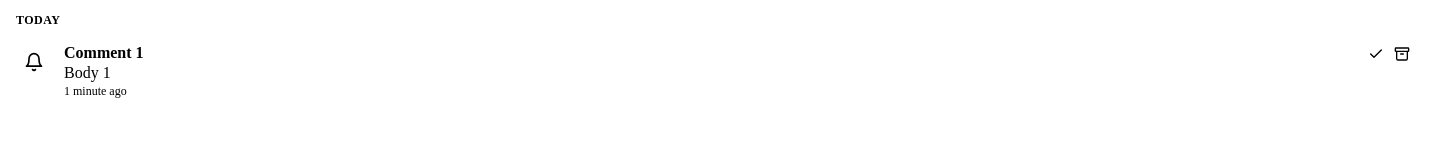
it: NotificationItem › toggles read state and archives from the item tools
Click the button named "Mark as read" at (1376, 54), box left=1364, top=42, right=1388, bottom=66
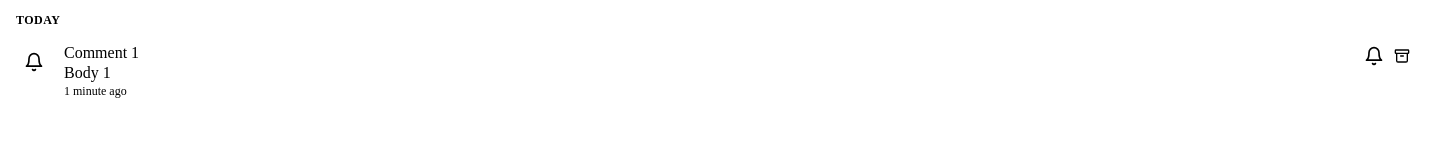
Click the button named "Mark as unread" at (1374, 56), box left=1360, top=42, right=1388, bottom=70
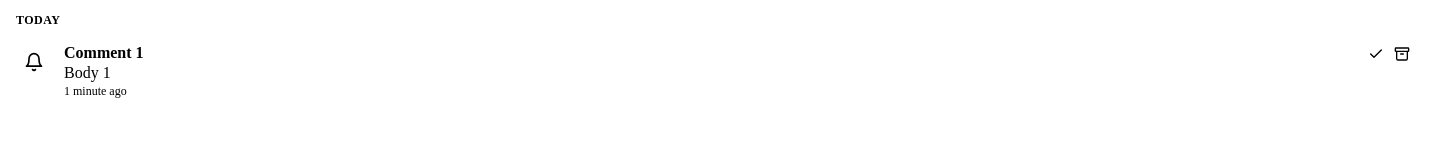
Click the button named "Archive" at (1402, 54), box left=1390, top=42, right=1414, bottom=66
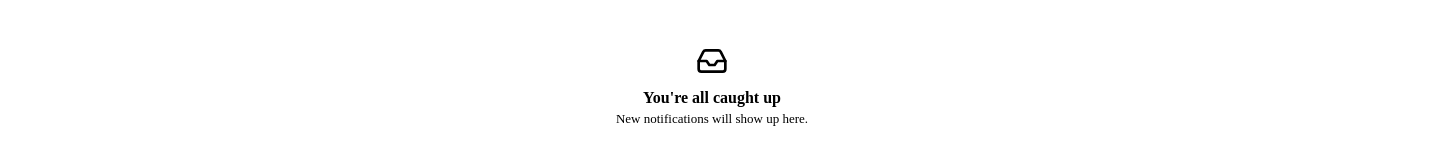
expect the button "Comment 1" is gone: met
